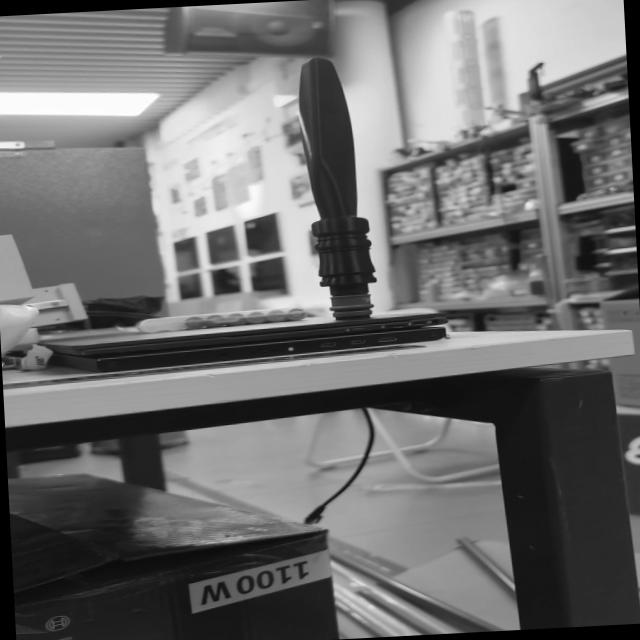base: (330, 294, 375, 320)
